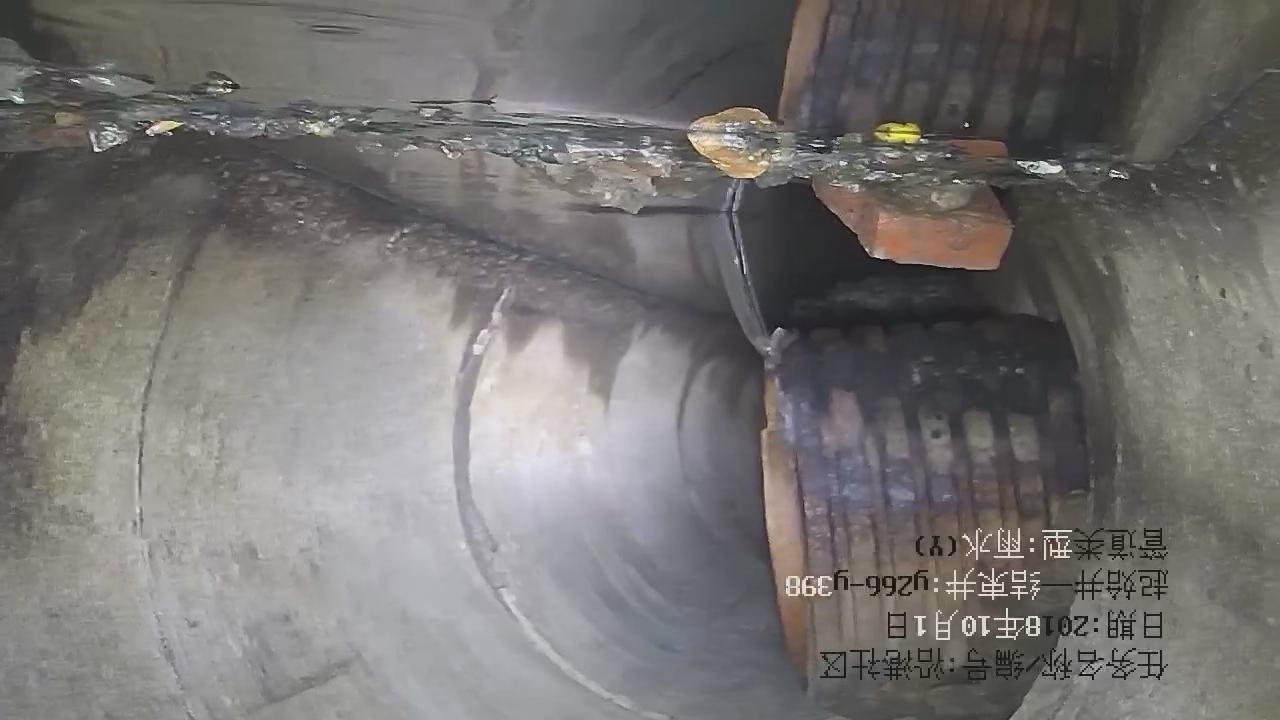CJ: (1, 63, 1128, 270)
ZGAJ: (762, 315, 1091, 720)
